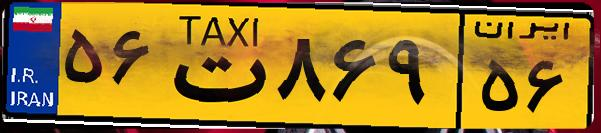5: (57, 26, 110, 100), (475, 38, 525, 113)
6: (330, 28, 385, 110), (525, 38, 570, 115), (110, 28, 158, 98)
8: (270, 28, 330, 110)
9: (385, 28, 445, 110)
ت: (158, 12, 270, 120)
